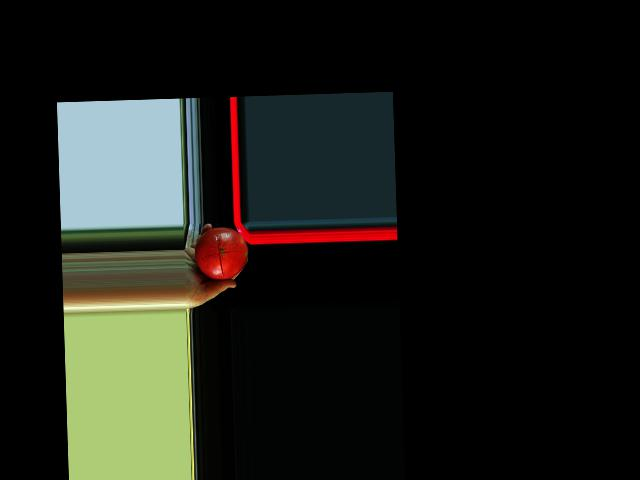tomato: (193, 225, 248, 280)
